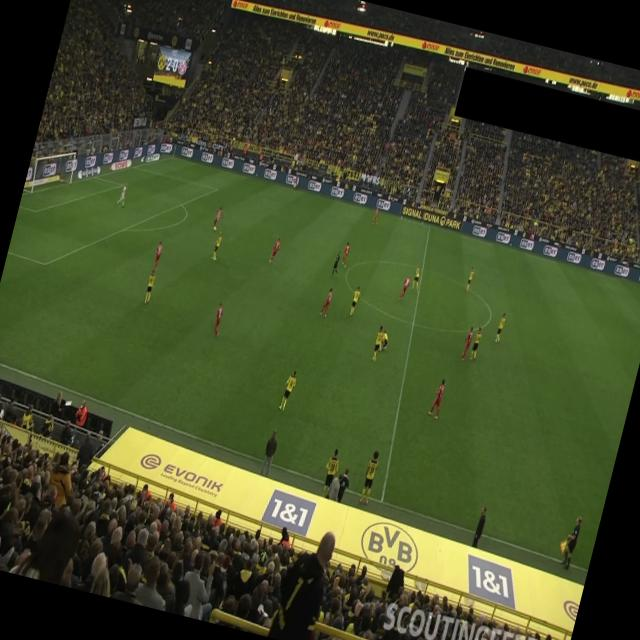ball: (213, 226, 218, 232)
goalkeeper: (115, 180, 130, 208)
player: (356, 448, 382, 506), (318, 446, 343, 498), (427, 376, 448, 420), (278, 368, 298, 412), (369, 324, 386, 364), (468, 326, 484, 362), (459, 325, 474, 362), (318, 285, 334, 318), (211, 302, 226, 336), (142, 268, 156, 304), (347, 285, 362, 317), (493, 311, 507, 344), (150, 240, 164, 272), (409, 264, 424, 292), (376, 328, 392, 354), (398, 274, 412, 302), (268, 236, 282, 264), (210, 230, 223, 260), (339, 240, 352, 267), (464, 265, 476, 293), (212, 206, 224, 232), (371, 205, 382, 227)
referee: (554, 512, 583, 570), (330, 250, 343, 278), (292, 173, 300, 190)
